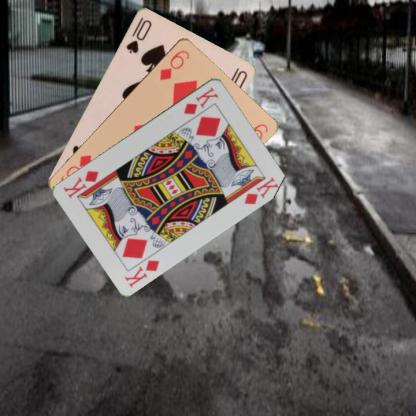10s: (123, 14, 153, 55)
6d: (156, 47, 191, 81)
Kd: (122, 256, 161, 289), (181, 84, 219, 116)
